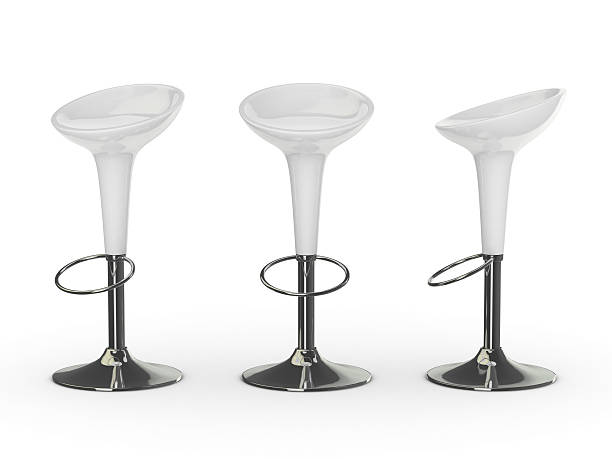Chair: (221, 85, 417, 410), (27, 78, 213, 415), (430, 84, 599, 418)
